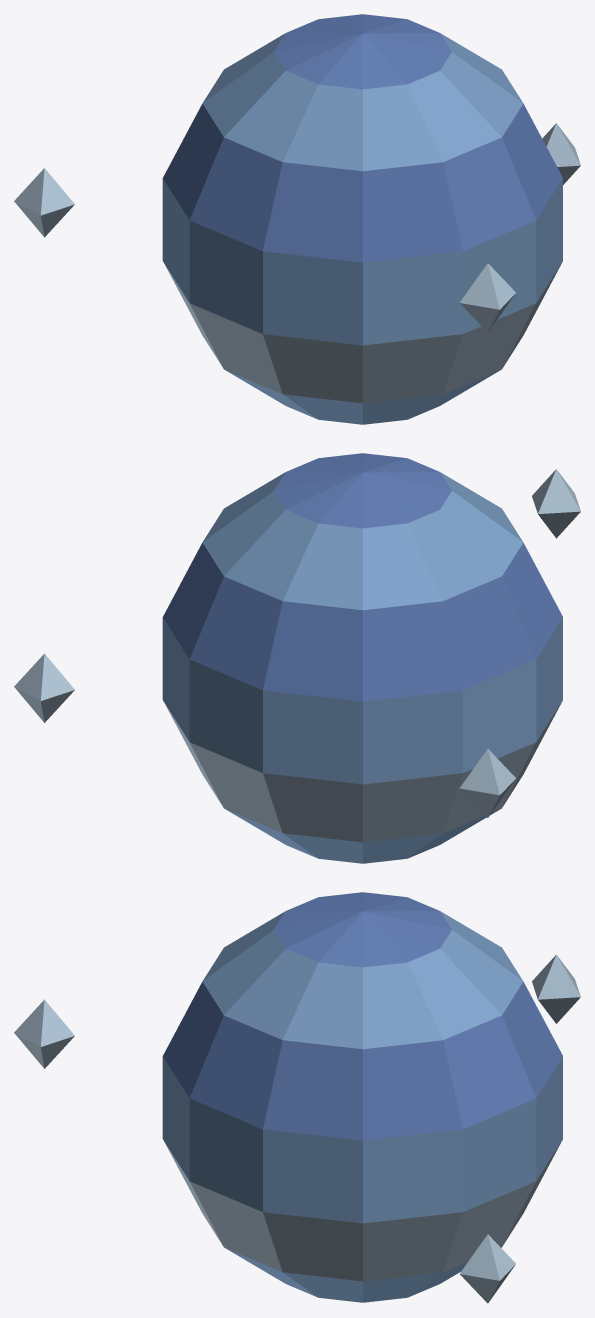
Rendered from held_crystal_ball.glb.
3 views of the same model, one above another, from view 1: azimuth 30°, elevation 25°; view 2: azimuth 150°, elevation 25°; view 3: azimuth 270°, elevation 25° (orthographic).
Visible parts, largest first — view 1: held_crystal_ball; view 2: held_crystal_ball; view 3: held_crystal_ball.
Part boxes in pixels (x1,y1,x2,y2): held_crystal_ball: [14, 14, 580, 424]; held_crystal_ball: [14, 453, 580, 863]; held_crystal_ball: [14, 892, 580, 1303].
Bounding box in the file's own units: 0.471 × 0.32 × 0.4418.
